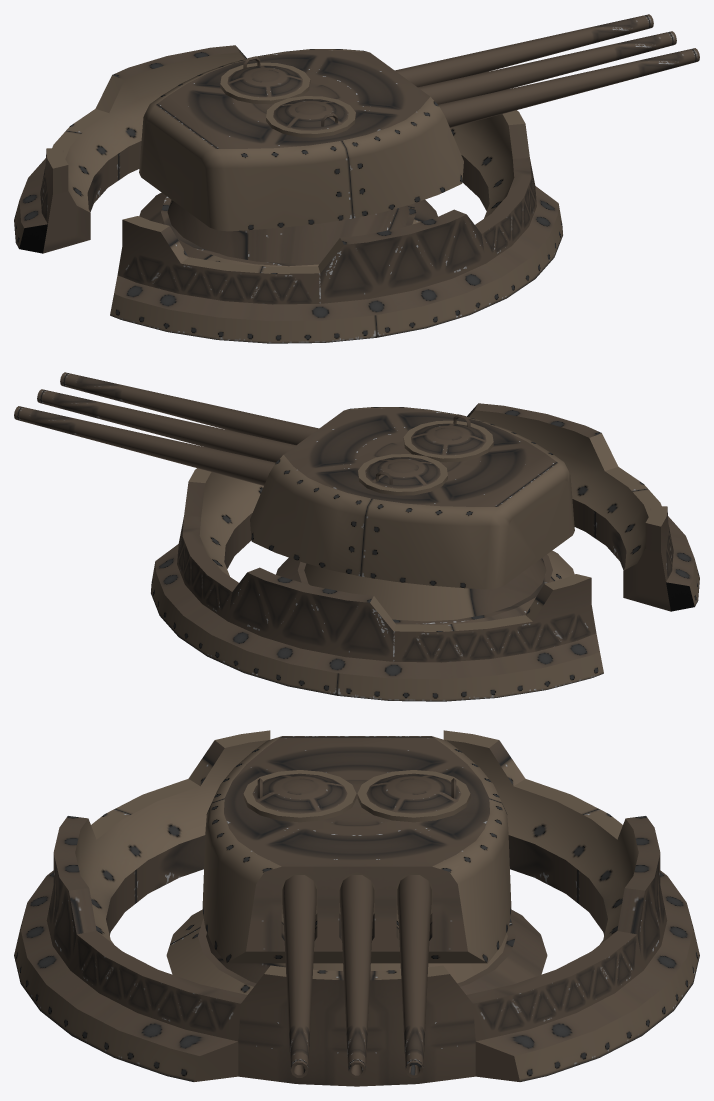
The model's file is Ground_Tower_level3 1.fbx.
3 views of the same model, one above another, from view 1: azimuth 30°, elevation 25°; view 2: azimuth 150°, elevation 25°; view 3: azimuth 270°, elevation 25° (orthographic). The views are drawn at different scales.
Parts seen in each view (by area): view 1: GT3_Wall, GT3_Body, GT3_Barrel, GT3_Base; view 2: GT3_Wall, GT3_Body, GT3_Barrel, GT3_Base; view 3: GT3_Wall, GT3_Body, GT3_Barrel, GT3_Base.
Boxes of the visible parts, left/top/right/bottom form: GT3_Wall: left=14, top=45, right=562, bottom=343; GT3_Body: left=139, top=49, right=463, bottom=231; GT3_Barrel: left=395, top=14, right=699, bottom=127; GT3_Base: left=139, top=192, right=437, bottom=266; GT3_Wall: left=151, top=403, right=699, bottom=701; GT3_Body: left=250, top=407, right=574, bottom=589; GT3_Barrel: left=14, top=372, right=318, bottom=485; GT3_Base: left=276, top=550, right=574, bottom=624; GT3_Wall: left=14, top=730, right=699, bottom=1086; GT3_Body: left=202, top=736, right=511, bottom=963; GT3_Barrel: left=282, top=875, right=431, bottom=1077; GT3_Base: left=166, top=909, right=547, bottom=994.
Bounding box in the file's own units: 9.29 × 2.06 × 7.27.
